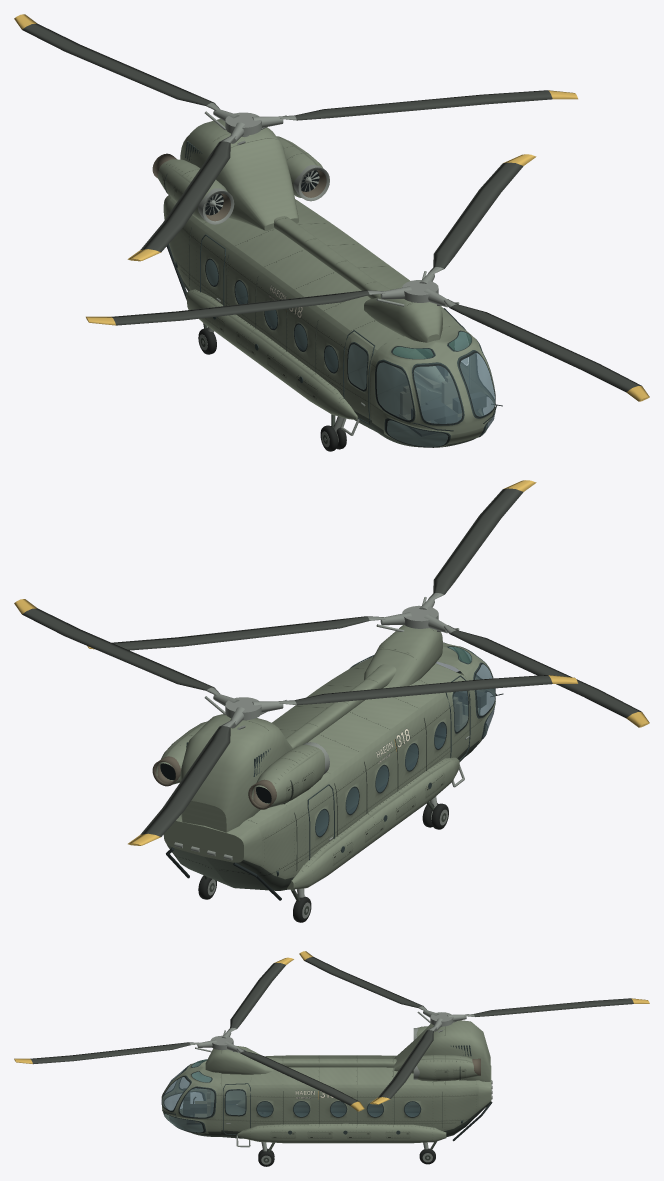
Rendered from DUSOL.glb.
3 views of the same model, one above another, from view 1: azimuth 30°, elevation 25°; view 2: azimuth 150°, elevation 25°; view 3: azimuth 270°, elevation 25° (orthographic). The views are drawn at different scales.
Visible parts, largest first — view 1: Airframe, SecondMainRotor, MainRotor; view 2: Airframe, SecondMainRotor, MainRotor; view 3: Airframe, SecondMainRotor, MainRotor.
Boxes of the visible parts, x1,y1,x2,y2 form: Airframe: (152, 119, 502, 451); SecondMainRotor: (14, 14, 577, 261); MainRotor: (86, 154, 649, 401); Airframe: (152, 625, 503, 922); SecondMainRotor: (14, 599, 578, 845); MainRotor: (87, 480, 649, 727); Airframe: (161, 1020, 492, 1166); SecondMainRotor: (299, 951, 649, 1104); MainRotor: (14, 957, 364, 1111).
Bounding box in the file's own units: 17.46 × 6.4 × 27.58.
Materials: 16 (3 with a texture image).
